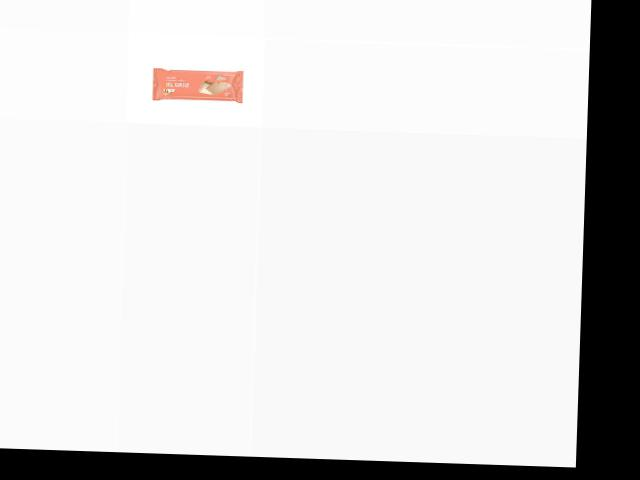chocolate: (148, 66, 243, 103)
